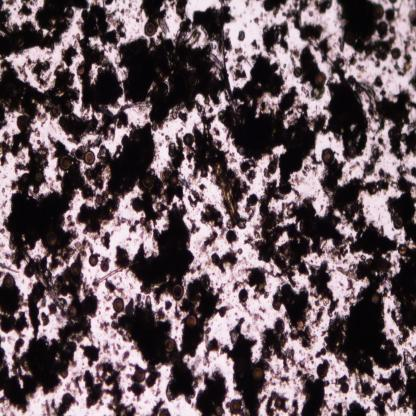Background material: (221, 53, 321, 180), (0, 294, 98, 413), (116, 39, 236, 128), (0, 60, 127, 141), (246, 179, 345, 281), (110, 294, 200, 403), (319, 298, 404, 391), (114, 202, 193, 295), (0, 176, 79, 264), (191, 126, 257, 228), (319, 56, 376, 158), (0, 0, 89, 60), (221, 320, 265, 416), (335, 0, 398, 66), (341, 227, 394, 298), (107, 119, 152, 196), (372, 85, 416, 162), (323, 160, 371, 226), (270, 284, 316, 350), (83, 361, 136, 415), (129, 182, 186, 231), (375, 347, 416, 414), (287, 0, 331, 58), (392, 244, 416, 344), (191, 2, 233, 56), (77, 5, 127, 49), (385, 174, 416, 242), (73, 145, 114, 196), (184, 277, 235, 318), (38, 266, 99, 295), (307, 260, 339, 314), (76, 196, 122, 233), (295, 368, 331, 415), (0, 130, 39, 172), (194, 368, 228, 416), (260, 326, 296, 370), (199, 202, 226, 249), (19, 54, 54, 90), (231, 267, 270, 299), (29, 279, 46, 342), (260, 21, 290, 56), (364, 135, 386, 180), (394, 33, 416, 77), (42, 390, 79, 415), (298, 48, 316, 98), (211, 248, 242, 273), (0, 284, 26, 313), (366, 168, 391, 196), (166, 132, 185, 168), (228, 43, 245, 82), (139, 0, 170, 21), (202, 335, 221, 367), (372, 393, 399, 415), (0, 314, 29, 333), (265, 394, 289, 415), (47, 132, 66, 158), (80, 343, 101, 366), (261, 2, 287, 20), (148, 397, 173, 415), (60, 43, 78, 67), (186, 184, 204, 207), (334, 373, 352, 396), (17, 0, 39, 18), (76, 240, 96, 259), (344, 401, 371, 415), (242, 303, 262, 321), (184, 214, 201, 235), (302, 156, 318, 177), (70, 371, 84, 395), (38, 142, 50, 170), (10, 332, 25, 353), (103, 280, 124, 295), (174, 0, 189, 21), (102, 341, 121, 356), (99, 230, 113, 250), (0, 262, 20, 275), (406, 7, 416, 32), (196, 257, 212, 272), (329, 402, 344, 416), (238, 288, 250, 304), (22, 265, 36, 278), (289, 397, 299, 415), (373, 74, 384, 89), (100, 318, 110, 333), (408, 72, 416, 90), (250, 39, 260, 51), (236, 30, 246, 42), (178, 111, 188, 122), (293, 66, 300, 78), (349, 56, 357, 66), (242, 0, 252, 8), (382, 67, 392, 75), (123, 351, 130, 362), (4, 0, 15, 7), (104, 0, 114, 6), (254, 16, 260, 26), (0, 0, 5, 10)
Cotton: (177, 174, 190, 190)
Diatom: (44, 229, 61, 251), (371, 2, 386, 21), (209, 53, 224, 71), (322, 148, 335, 166), (376, 19, 389, 37), (171, 284, 185, 300), (60, 152, 72, 170), (252, 366, 264, 383), (314, 70, 326, 86), (144, 21, 156, 37), (158, 19, 169, 35), (226, 229, 237, 245), (165, 337, 176, 353), (316, 362, 327, 378), (184, 314, 196, 328), (142, 174, 154, 188), (134, 368, 146, 382), (113, 298, 124, 313), (391, 45, 402, 60), (230, 399, 241, 414), (18, 116, 28, 132), (184, 132, 194, 148), (188, 72, 199, 86), (84, 151, 95, 165), (393, 214, 403, 229), (4, 275, 14, 290), (348, 145, 358, 159), (370, 291, 380, 305), (275, 321, 285, 335), (70, 262, 80, 276), (160, 169, 170, 183), (386, 8, 396, 21), (67, 306, 77, 318), (100, 260, 110, 272), (89, 254, 99, 266), (36, 170, 44, 184), (65, 7, 74, 19), (268, 163, 277, 174), (204, 333, 210, 349), (170, 174, 178, 186), (95, 194, 103, 205), (296, 320, 304, 331), (52, 105, 59, 117), (77, 65, 85, 75)
